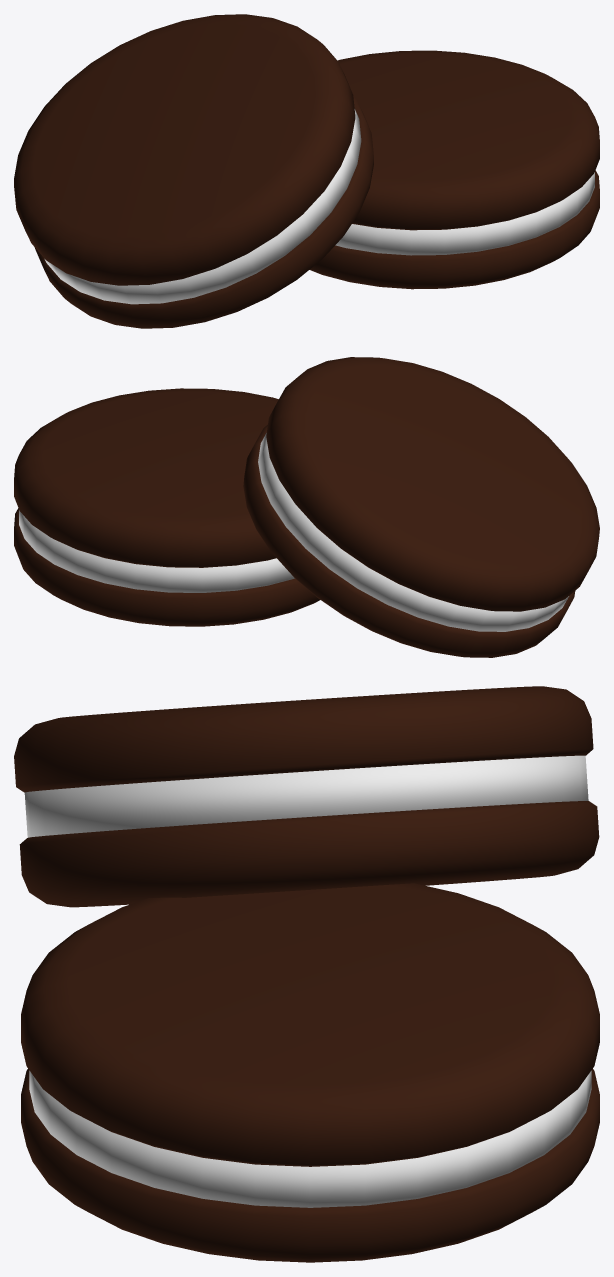
Rendered from cookie.fbx.
3 views of the same model, one above another, from view 1: azimuth 30°, elevation 25°; view 2: azimuth 150°, elevation 25°; view 3: azimuth 270°, elevation 25° (orthographic). The views are drawn at different scales.
Parts seen in each view (by area): view 1: 円柱.003, 円柱.004; view 2: 円柱.003, 円柱.004; view 3: 円柱.004, 円柱.003.
Boxes of the visible parts, x1=… form: 円柱.003: x1=14, y1=14, x2=373, y2=328; 円柱.004: x1=309, y1=50, x2=599, y2=289; 円柱.003: x1=243, y1=357, x2=599, y2=657; 円柱.004: x1=14, y1=388, x2=319, y2=626; 円柱.004: x1=21, y1=883, x2=599, y2=1262; 円柱.003: x1=14, y1=686, x2=599, y2=907.
Size of the model in its own units: 13.07 by 5.1 by 7.59.
